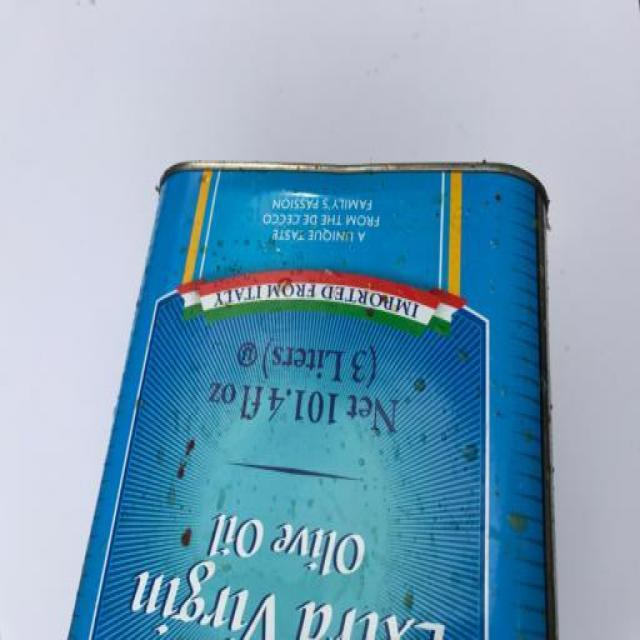metel: (97, 116, 566, 640)
